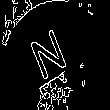N_SE: (32, 23, 78, 87)
